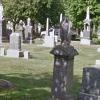Statue: (44, 15, 84, 71)
